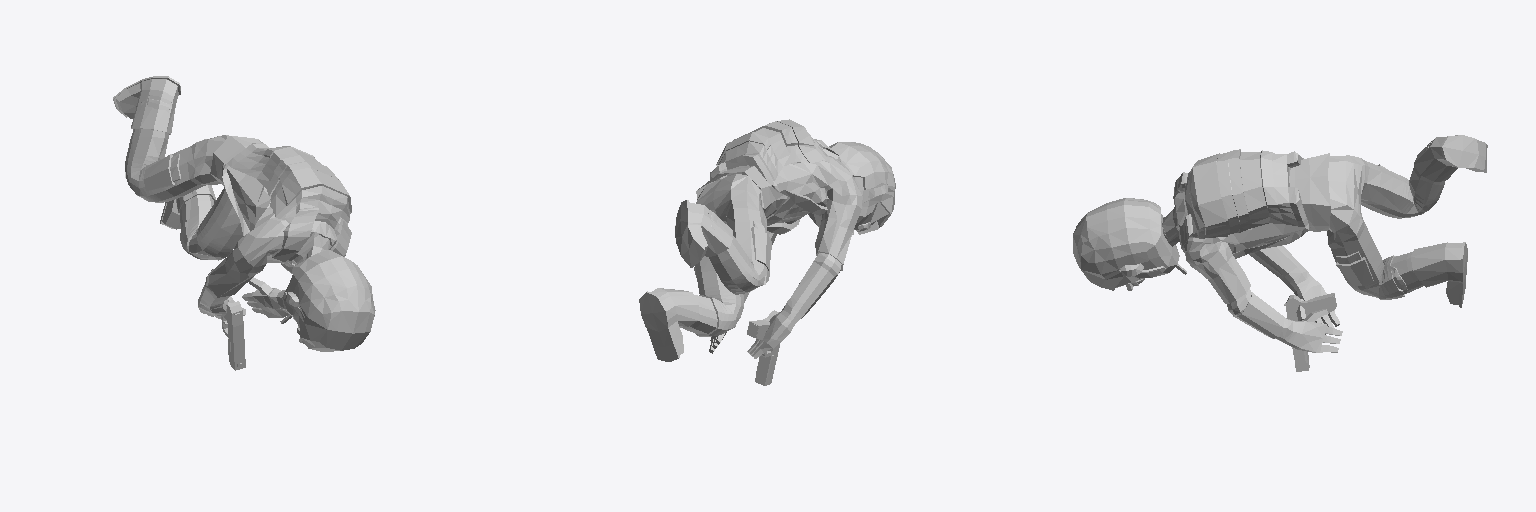
The model's file is frame_0051.obj.
The picture shows the model from 3 angles: view 1: azimuth 30°, elevation 25°; view 2: azimuth 150°, elevation 25°; view 3: azimuth 270°, elevation 25°; orthographic projection.
Visible parts, largest first — view 1: Body, Gun; view 2: Body, Gun; view 3: Body, Gun.
Part boxes in pixels (x1,y1,x2,y2): Body: (113,76,375,351); Gun: (222,296,245,370); Body: (639,119,895,361); Gun: (747,310,779,385); Body: (1073,135,1487,352); Gun: (1284,293,1336,371).
Bounding box in the file's own units: 1.25 × 2.31 × 3.66.